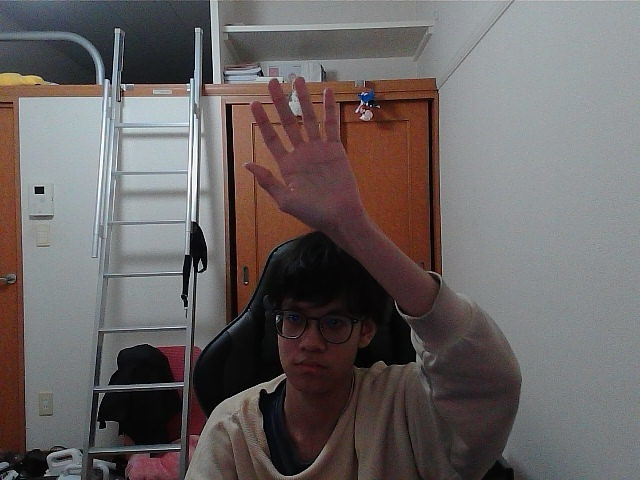open_palm: (252, 82, 339, 216)
